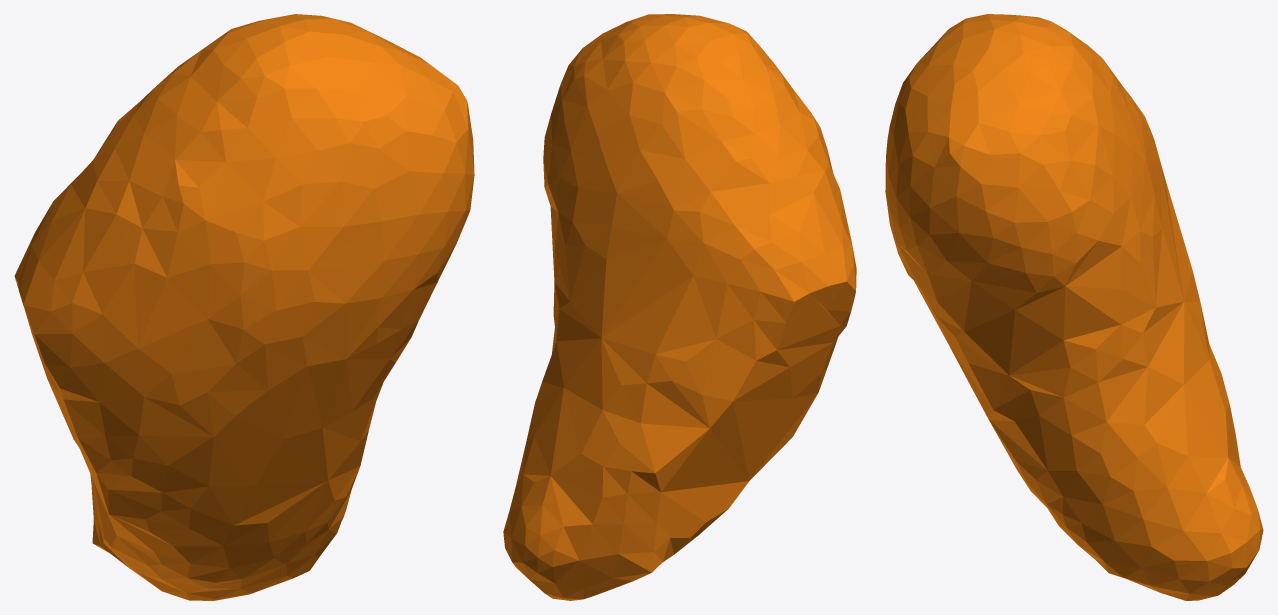
The model's file is Model_10653_LH__Anterior_interposed_cerebellar_nucleus_(IntA).obj.
The picture shows the model from 3 angles, left to right: view 1: azimuth 30°, elevation 25°; view 2: azimuth 150°, elevation 25°; view 3: azimuth 270°, elevation 25°; orthographic projection. The views are drawn at different scales.
Bounding box in the file's own units: 0.9859 × 1.55 × 0.9557.
